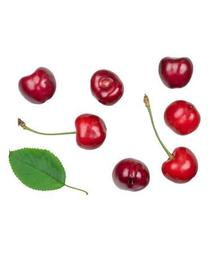cherry: (17, 67, 56, 105), (161, 146, 199, 184), (164, 100, 200, 136), (112, 158, 150, 192), (90, 69, 124, 106), (158, 57, 193, 89), (75, 114, 106, 150)
